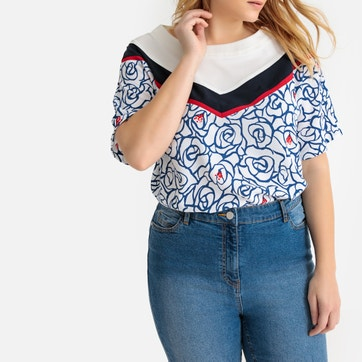C_jeans: (148, 206, 327, 362)
C_short blouse: (111, 26, 342, 214)
